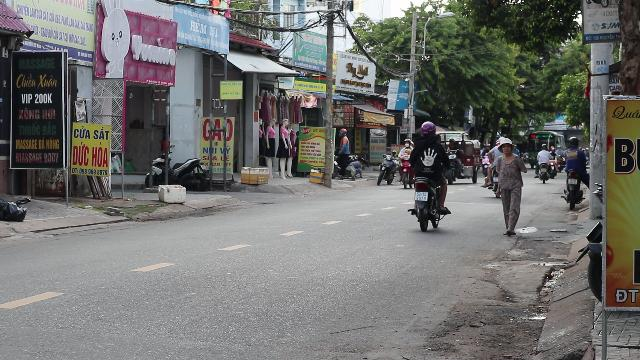helmet: (419, 120, 436, 136)
licenseplate: (414, 192, 428, 200)
motorcyclist: (406, 121, 452, 231)
